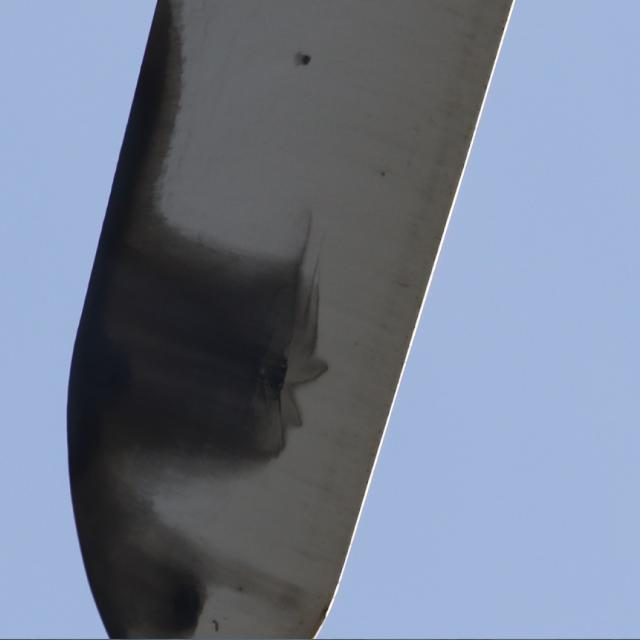Burn Mark: (66, 217, 256, 482), (54, 483, 210, 640), (94, 0, 203, 217)
Crack: (256, 222, 330, 448), (308, 576, 342, 636)
